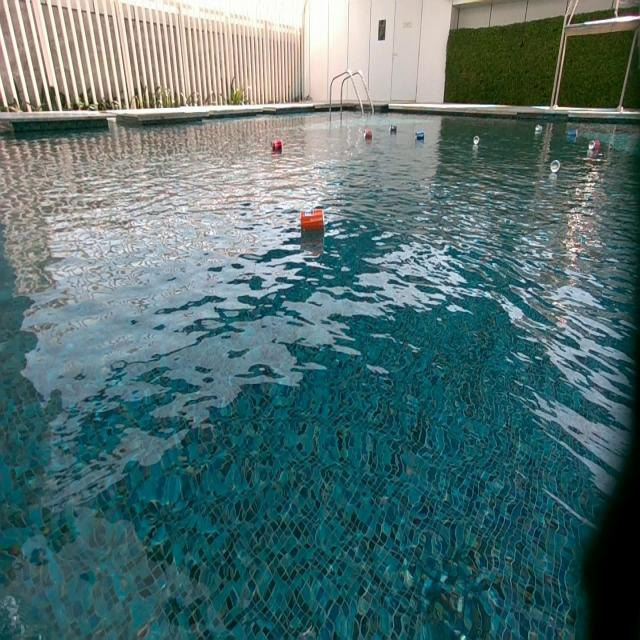Cans: (302, 208, 326, 232), (272, 139, 284, 152), (589, 140, 601, 152), (552, 160, 561, 173), (416, 130, 425, 140), (363, 131, 371, 141), (389, 125, 397, 135), (567, 130, 577, 138), (535, 125, 543, 134), (471, 137, 478, 145)
